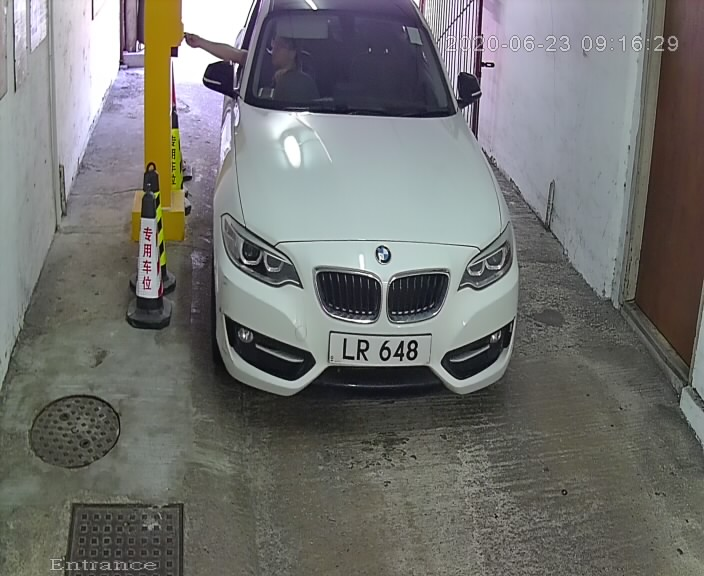privatecar: (180, 1, 538, 434)
